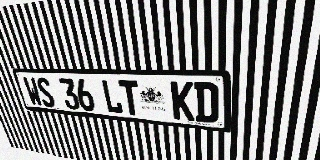3: (58, 78, 81, 110)
6: (73, 78, 96, 112)
D: (194, 82, 218, 123)
K: (170, 81, 195, 121)
L: (100, 79, 124, 114)
S: (35, 77, 56, 108)
T: (118, 80, 142, 116)
W: (22, 77, 44, 107)
